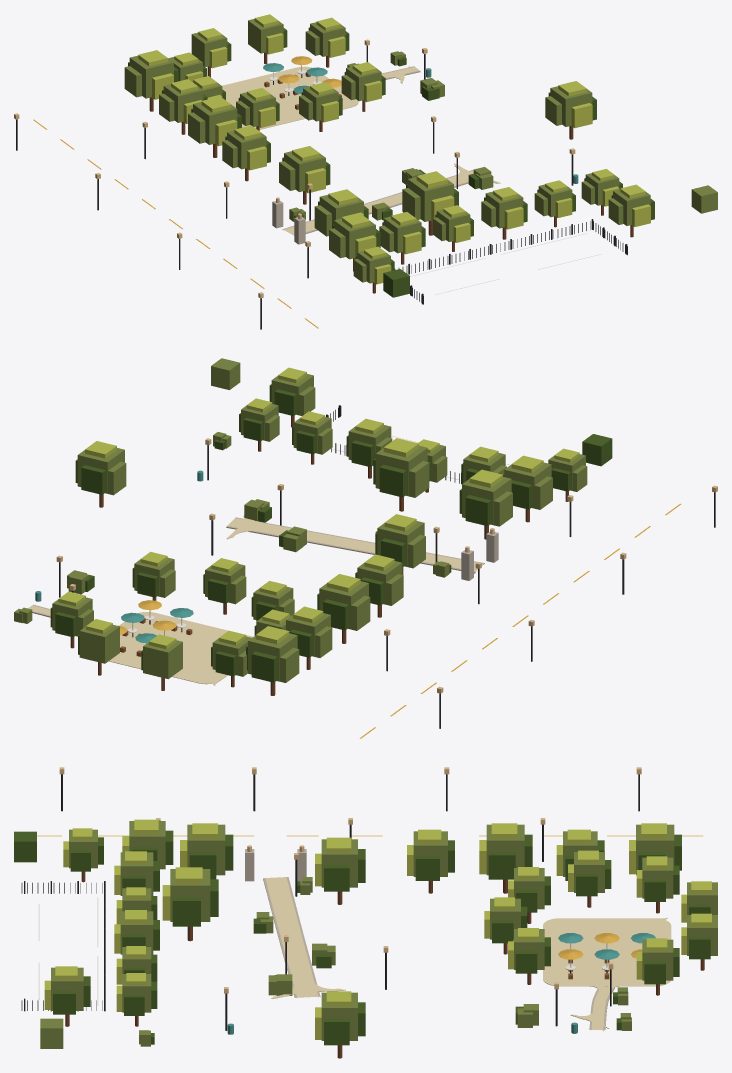
The model's file is chunk_-2_-1.glb.
The picture shows the model from 3 angles, top to bottom: view 1: azimuth 30°, elevation 25°; view 2: azimuth 150°, elevation 25°; view 3: azimuth 270°, elevation 25°; orthographic projection. The views are drawn at different scales.
Parts seen in each view (by area): view 1: chunk_-2_-1__tree, chunk_-2_-1__ground, chunk_-2_-1__feat_tennis, chunk_-2_-1__lamp, chunk_-2_-1__feat_cafe, chunk_-2_-1__feat_gate; view 2: chunk_-2_-1__tree, chunk_-2_-1__ground, chunk_-2_-1__lamp, chunk_-2_-1__feat_cafe, chunk_-2_-1__feat_gate; view 3: chunk_-2_-1__tree, chunk_-2_-1__ground, chunk_-2_-1__lamp, chunk_-2_-1__feat_cafe, chunk_-2_-1__feat_tennis, chunk_-2_-1__feat_gate.
Boxes of the visible parts, <box> form: chunk_-2_-1__tree: <box>124,14,717,297</box>; chunk_-2_-1__ground: <box>33,66,500,328</box>; chunk_-2_-1__feat_tennis: <box>394,219,627,304</box>; chunk_-2_-1__lamp: <box>14,39,575,329</box>; chunk_-2_-1__feat_cafe: <box>263,56,341,109</box>; chunk_-2_-1__feat_gate: <box>272,197,305,244</box>; chunk_-2_-1__tree: <box>14,358,612,695</box>; chunk_-2_-1__ground: <box>28,503,681,738</box>; chunk_-2_-1__lamp: <box>56,438,717,728</box>; chunk_-2_-1__feat_cafe: <box>118,600,193,656</box>; chunk_-2_-1__feat_gate: <box>461,528,498,580</box>; chunk_-2_-1__tree: <box>14,819,717,1058</box>; chunk_-2_-1__ground: <box>37,835,702,1030</box>; chunk_-2_-1__lamp: <box>59,767,641,1030</box>; chunk_-2_-1__feat_cafe: <box>558,933,655,979</box>; chunk_-2_-1__feat_tennis: <box>21,881,105,1011</box>; chunk_-2_-1__feat_gate: <box>245,845,306,881</box>.
Size of the model in its own units: 57.35 by 6.99 by 65.88.
